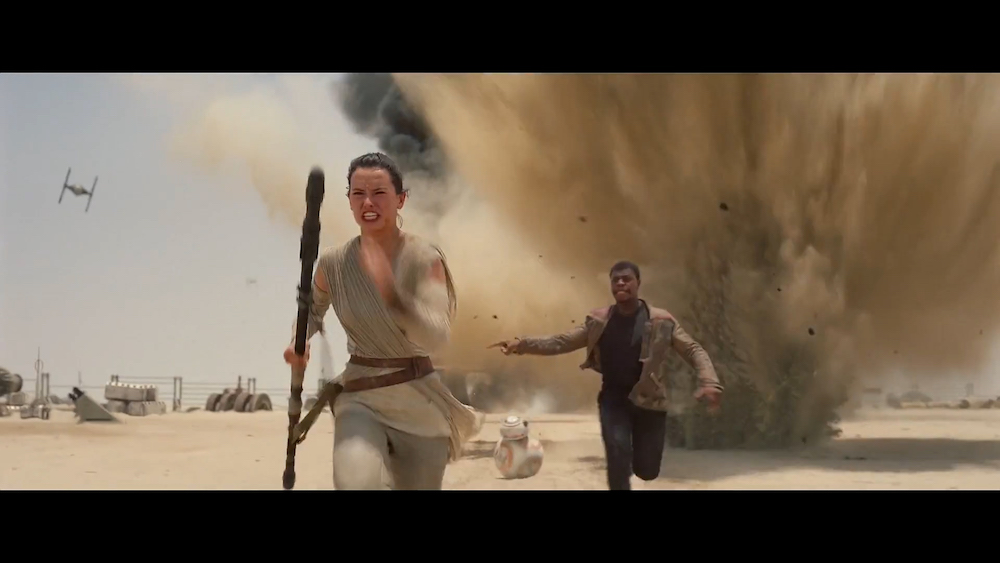Tie Fighter: (54, 167, 101, 215)
